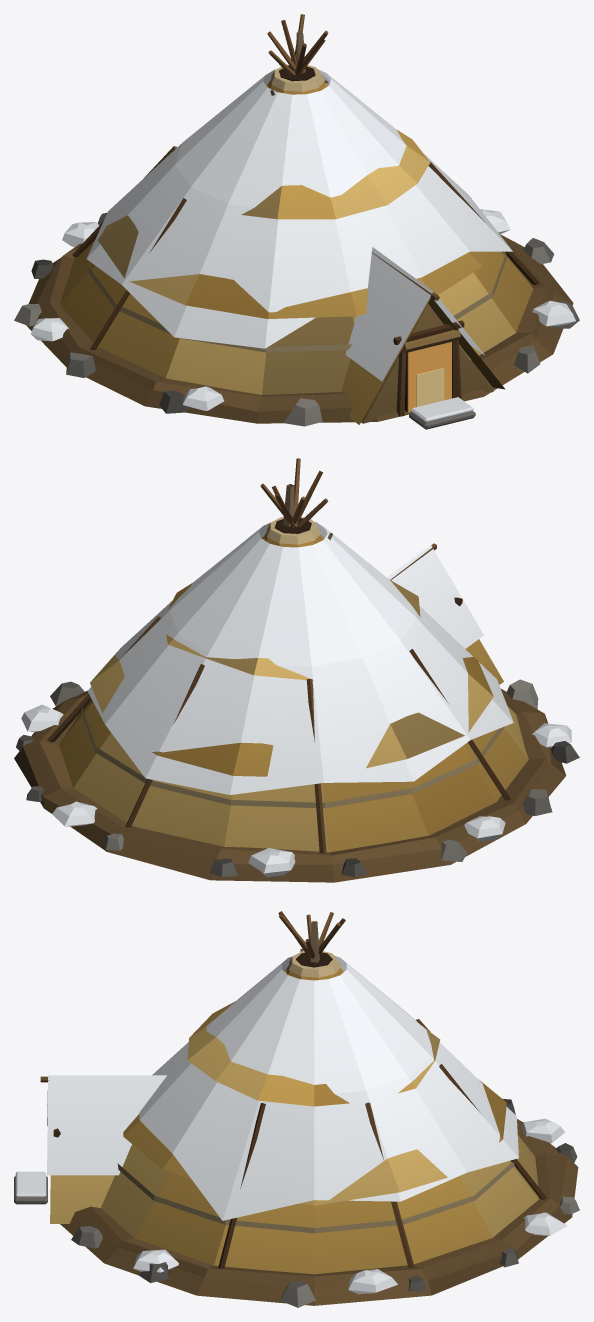
Rendered from winter.glb.
3 views of the same model, one above another, from view 1: azimuth 30°, elevation 25°; view 2: azimuth 150°, elevation 25°; view 3: azimuth 270°, elevation 25° (orthographic). The views are drawn at different scales.
Parts seen in each view (by area): view 1: wpit_snow, wpit, wpit_glow; view 2: wpit_snow, wpit; view 3: wpit_snow, wpit.
Boxes of the visible parts, bbox=[...] form: wpit_snow: bbox=[31, 69, 575, 422]; wpit: bbox=[14, 14, 579, 429]; wpit_glow: bbox=[407, 342, 451, 412]; wpit_snow: bbox=[21, 522, 571, 877]; wpit: bbox=[14, 458, 579, 882]; wpit_snow: bbox=[15, 955, 567, 1294]; wpit: bbox=[14, 911, 579, 1307].
Size of the model in its own units: 9.02 by 5.88 by 9.19.
